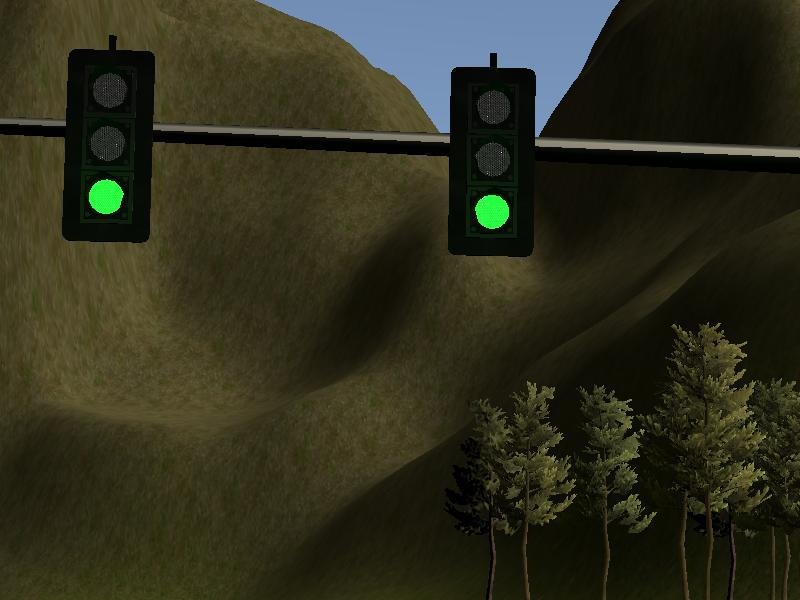Green: (68, 50, 149, 241), (454, 67, 531, 249)
